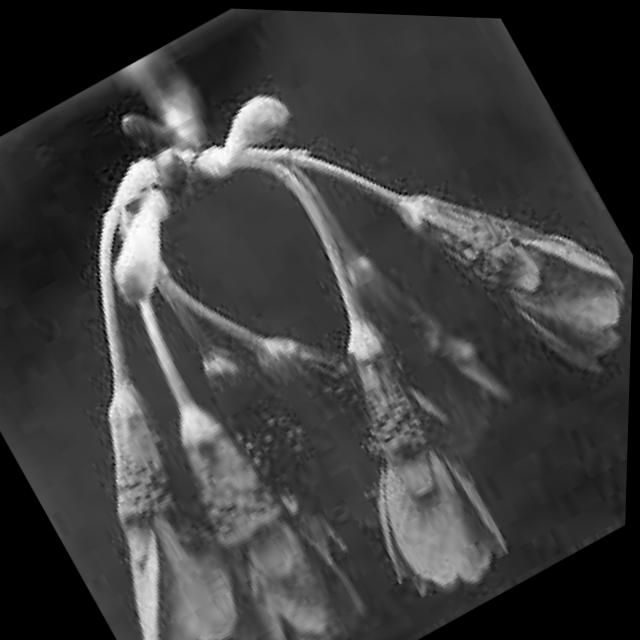Flower: (248, 255, 552, 623), (97, 307, 405, 640), (245, 120, 531, 475), (1, 322, 304, 640), (364, 83, 638, 425), (163, 288, 408, 576), (225, 260, 454, 518)
